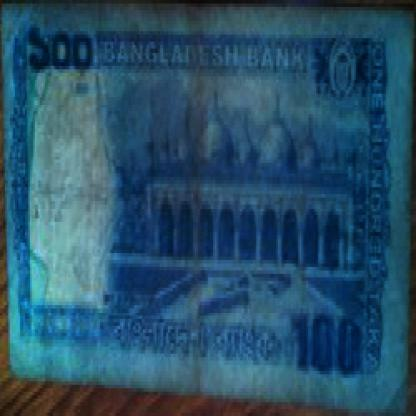one hundred taka: (291, 295, 368, 395), (22, 14, 100, 83)
